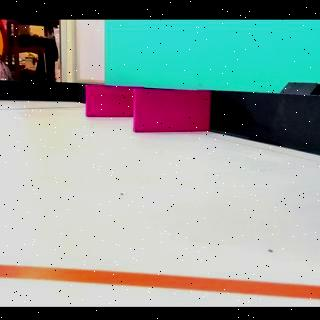xparking: (136, 91, 210, 132), (86, 86, 132, 116)
